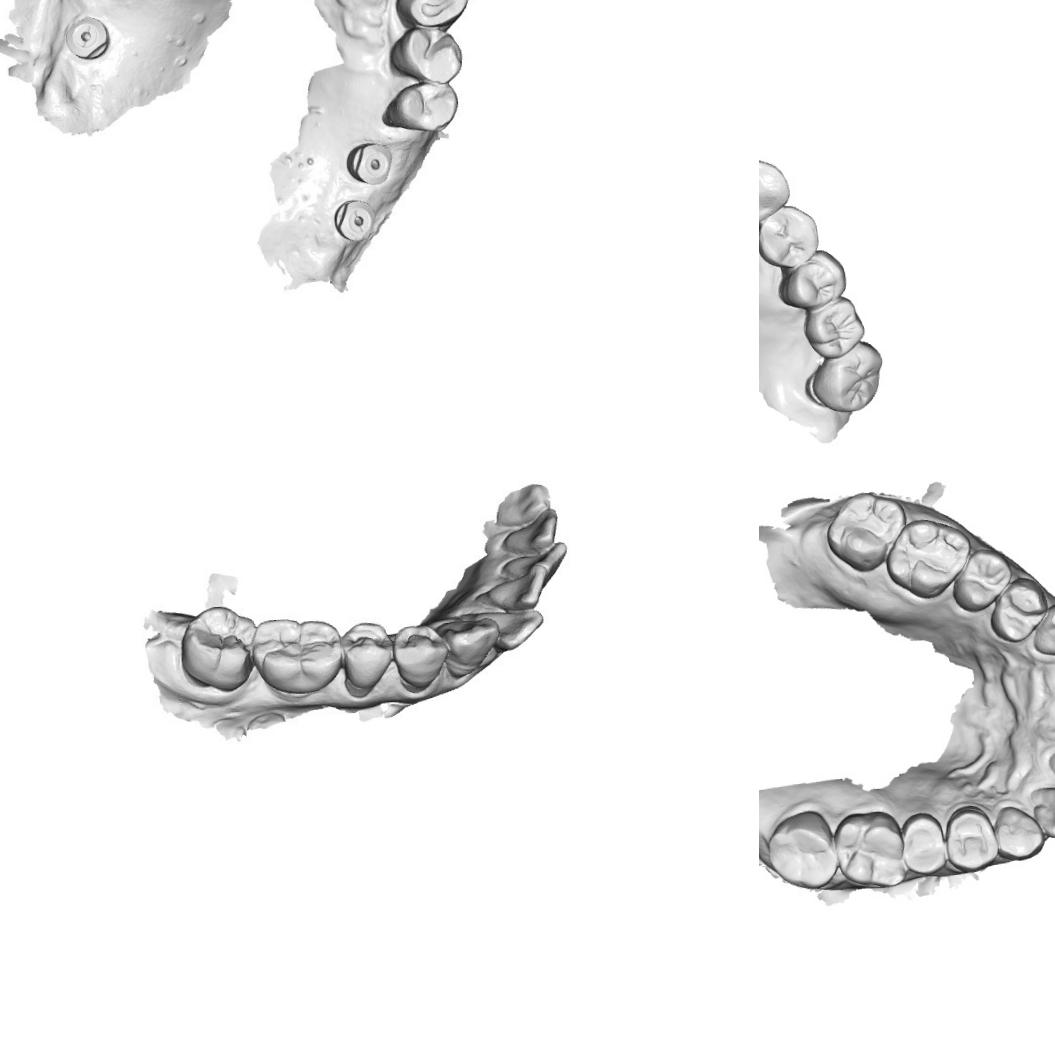canine: (444, 611, 502, 675), (992, 803, 1046, 862), (759, 155, 793, 229), (401, 0, 472, 32), (1029, 600, 1055, 657)
implant: (348, 137, 395, 184)
implant_minus: (63, 12, 116, 61), (332, 194, 378, 246)
incisor: (482, 600, 544, 650), (490, 570, 550, 614), (503, 510, 560, 555), (503, 545, 568, 581), (1027, 784, 1055, 839)
molar: (882, 516, 974, 602), (178, 605, 258, 702), (822, 488, 910, 574), (250, 612, 340, 691), (800, 340, 886, 416), (833, 808, 909, 891), (765, 808, 839, 892), (800, 292, 866, 360)
premolar: (779, 248, 849, 312), (949, 545, 1014, 613), (985, 575, 1049, 644), (759, 203, 819, 272), (942, 804, 1000, 874), (392, 76, 455, 136), (398, 25, 464, 78), (392, 621, 448, 683), (899, 808, 947, 876), (343, 618, 394, 677)
